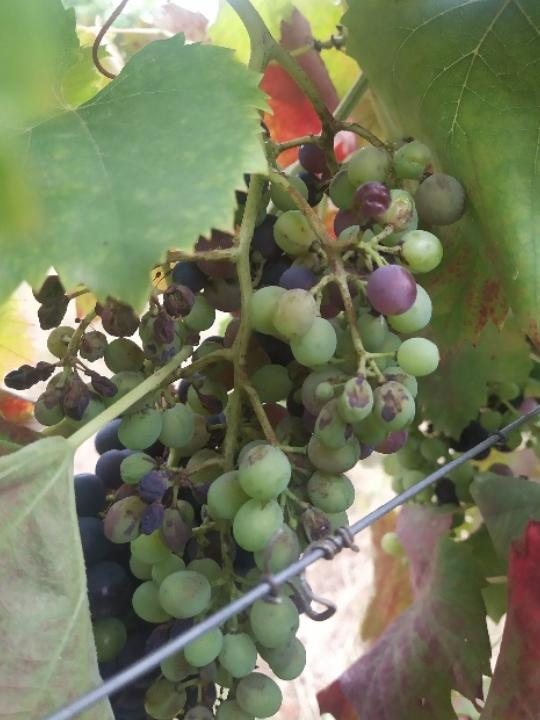grape: (0, 134, 471, 720)
